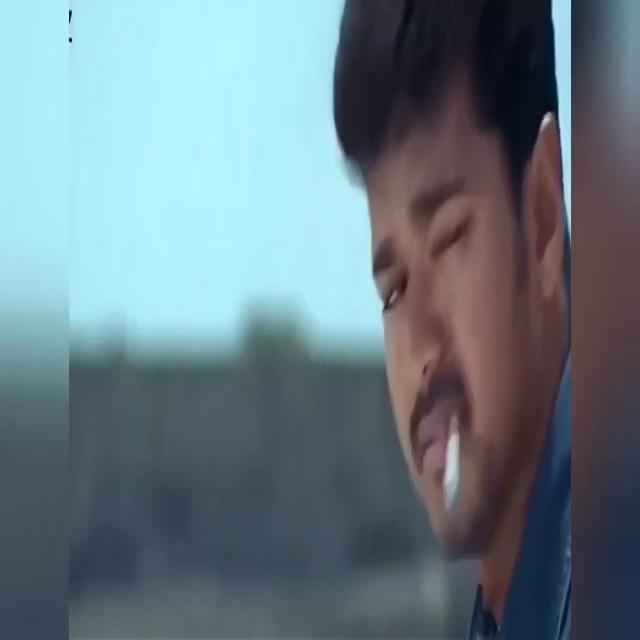smoking: (438, 450, 469, 478)
